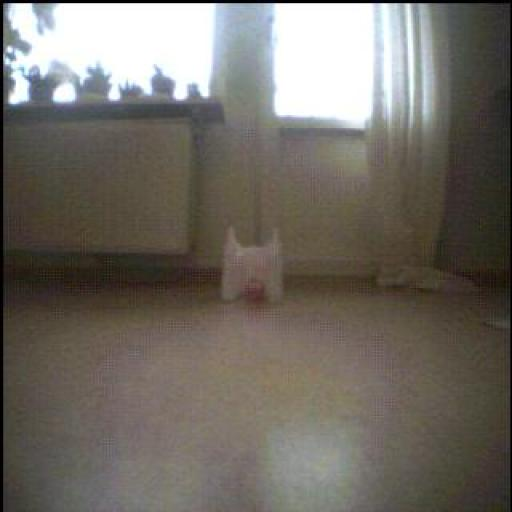Basket: (242, 277, 266, 305)
